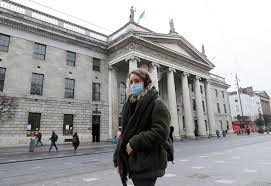mask: (126, 68, 149, 98)
